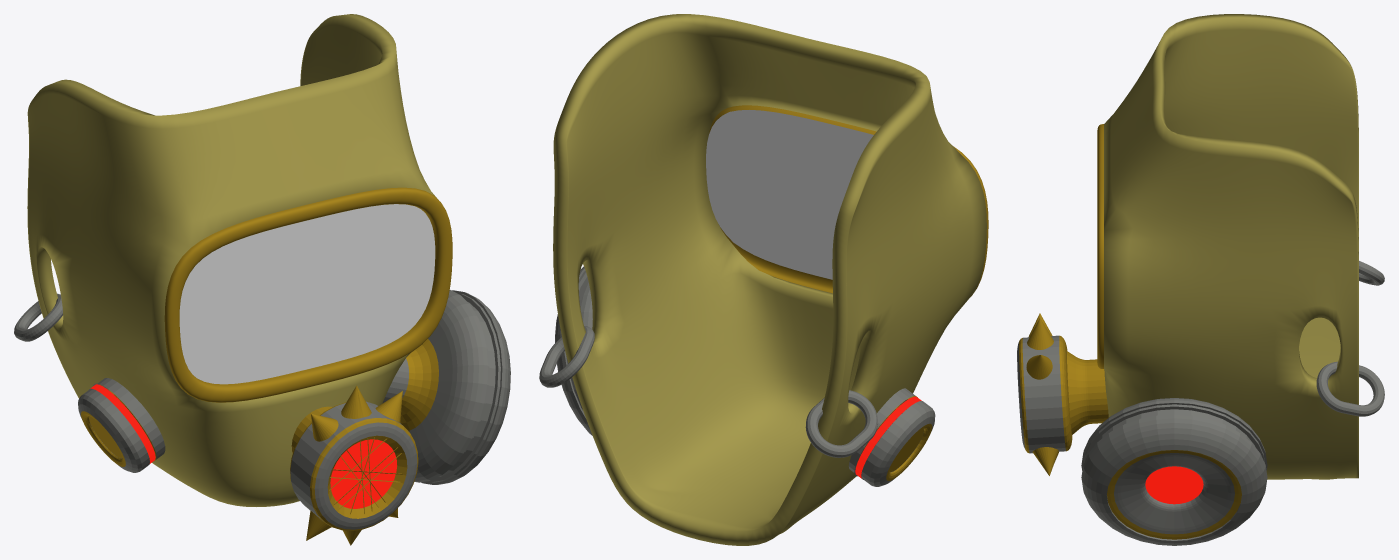
File: MAsk.fbx
3 views of the same model, side by side, from view 1: azimuth 30°, elevation 25°; view 2: azimuth 150°, elevation 25°; view 3: azimuth 270°, elevation 25° (orthographic). The views are drawn at different scales.
Parts seen in each view (by area): view 1: mask; view 2: mask; view 3: mask.
Part boxes in pixels (x1,y1,x2,y2): mask: [14, 14, 510, 545]; mask: [539, 14, 988, 545]; mask: [1017, 14, 1384, 545].
Size of the model in its own units: 39.88 by 43.23 by 36.24.
